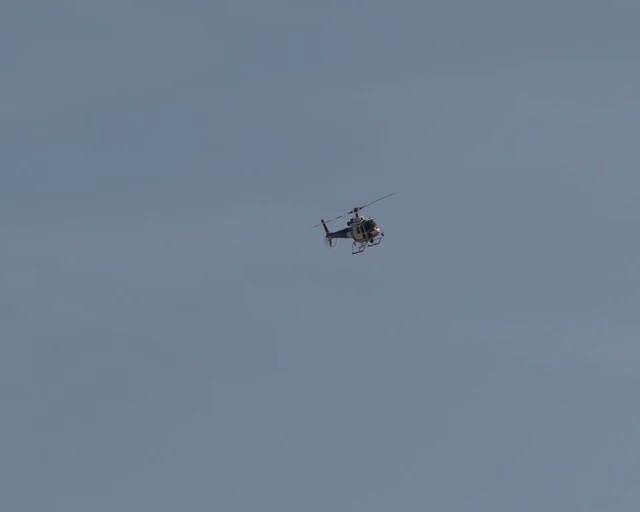HELICOPTER: (313, 191, 396, 255)
